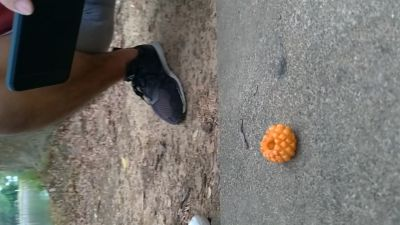eggs: (259, 123, 299, 165)
